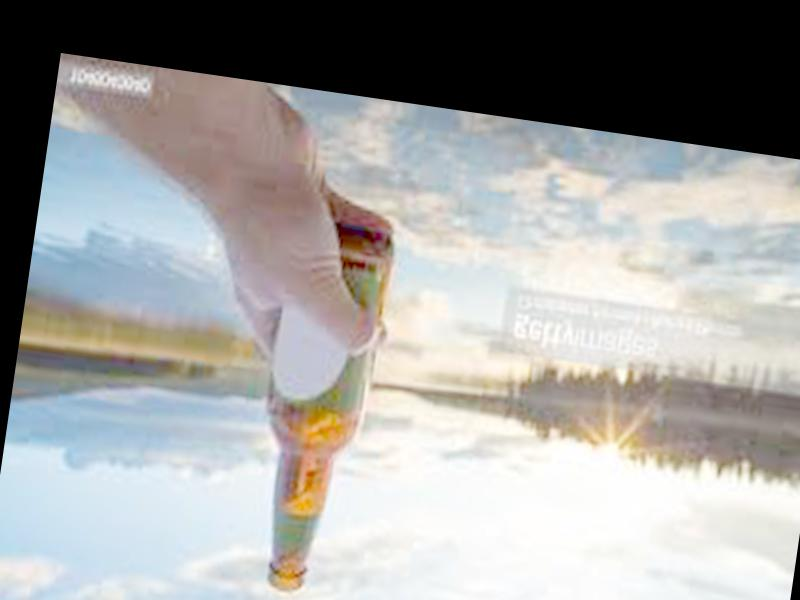Beer: (237, 221, 402, 600)
